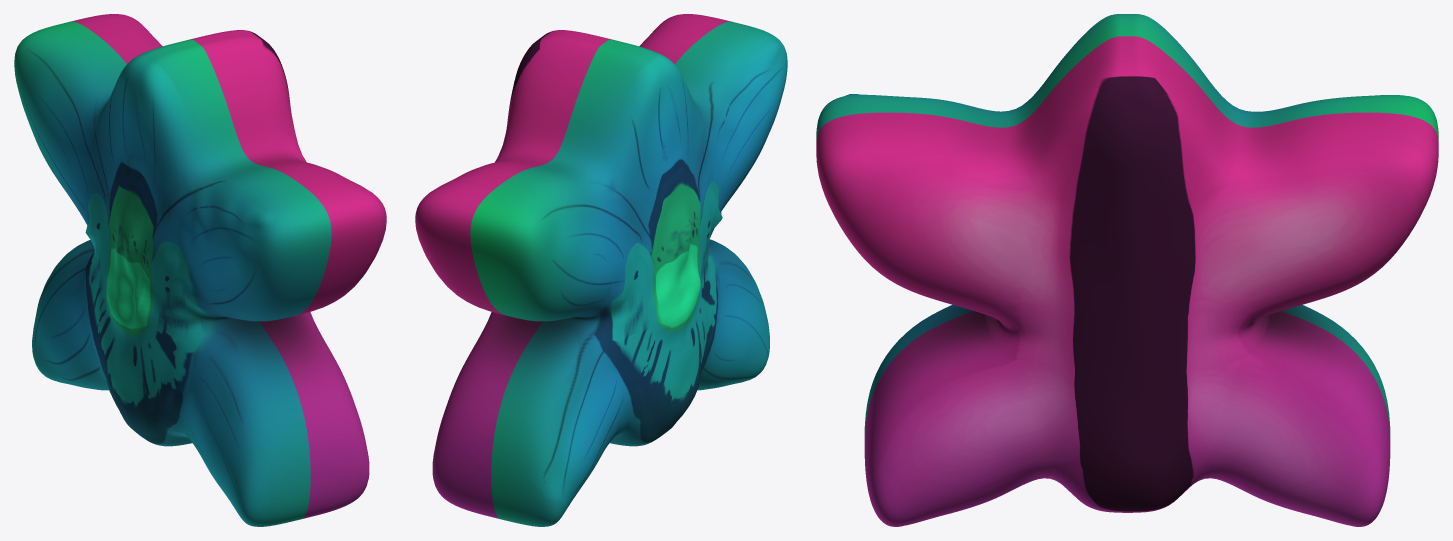
Rendered from orchid_butterfly_done1.fbx.
The picture shows the model from 3 angles, left to right: view 1: azimuth 30°, elevation 25°; view 2: azimuth 150°, elevation 25°; view 3: azimuth 270°, elevation 25°; orthographic projection. The views are drawn at different scales.
Visible parts, largest first — view 1: pCube3; view 2: pCube3; view 3: pCube3.
Boxes of the visible parts, <box> form: pCube3: <box>14,14,386,526</box>; pCube3: <box>415,14,787,526</box>; pCube3: <box>816,14,1438,526</box>.
Bounding box in the file's own units: 2.45 × 5.75 × 6.94.
